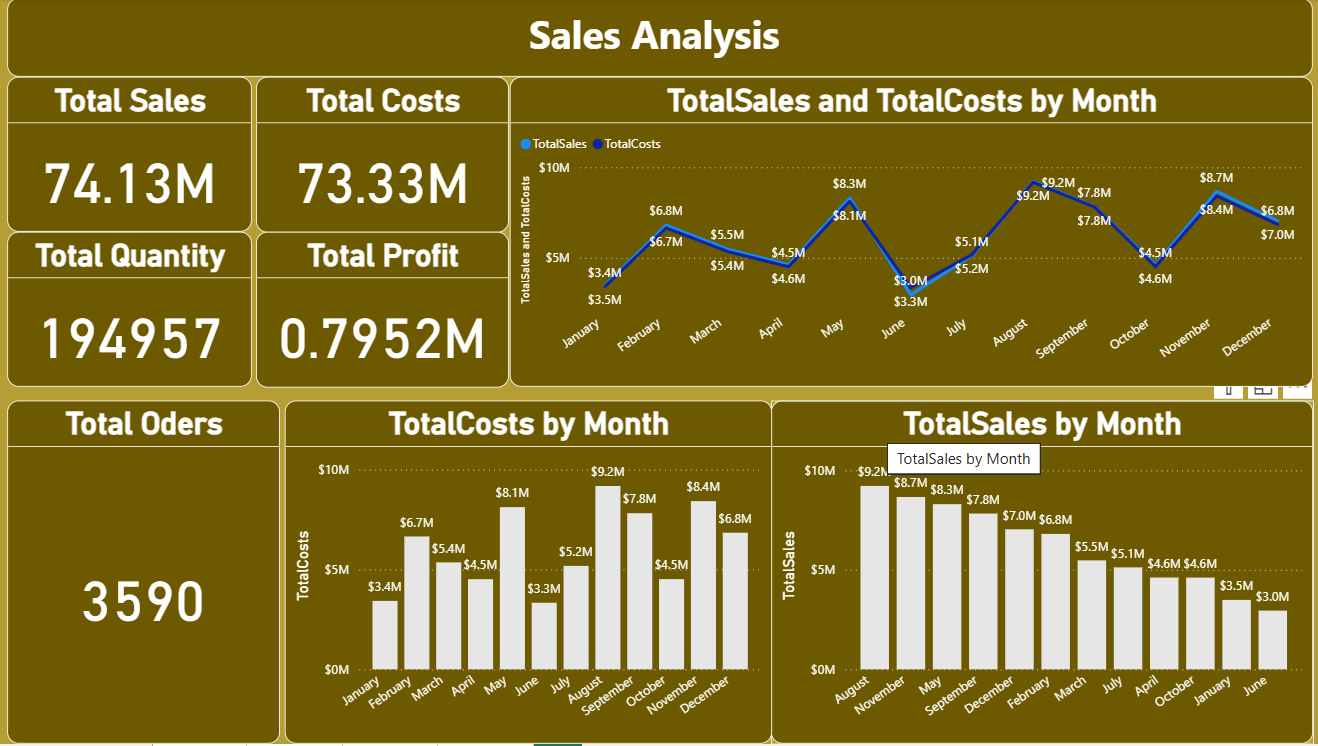

What the dashboard file says about the page in this screenshot:
{"tool":"powerbi","page":{"name":"Page 1","canvas":[1280,720],"ordinal":0},"visuals":[{"type":"card","title":"Total Sales","fields":{"Values":["Sum(Sales.Sale)"]},"box":[11,75.5,236,149.6],"z":0},{"type":"card","title":"Total Costs","fields":{"Values":["Sum(Sales.Cost)"]},"box":[251.4,75.7,244.3,150],"z":1000},{"type":"card","title":"Total Quantity","fields":{"Values":["Sum(Sales.Quantity)"]},"box":[11,225,236,149.6],"z":2000},{"type":"card","title":"Total Oders","fields":{"Values":["Count(Sales.OrderNumber)"]},"box":[11.4,388.6,262.9,331.4],"z":3000},{"type":"lineClusteredColumnComboChart","fields":{"Category":["Sales.Order Date.Variation.Date Hierarchy.Month"],"Y":["Sales.TotalSales"]},"box":[748.6,388.6,522.9,331.4],"z":4000},{"type":"lineClusteredColumnComboChart","fields":{"Category":["Sales.Order Date.Variation.Date Hierarchy.Month"],"Y":["Sales.TotalCosts"]},"box":[278.6,388.6,470,331.4],"z":5000},{"type":"lineChart","fields":{"Y":["Sales.TotalSales","Sales.TotalCosts"],"Category":["Sales.Order Date.Variation.Date Hierarchy.Month"]},"box":[495.4,75.5,775.3,299.1],"z":6000},{"type":"textbox","box":[11,0,1259.7,75.6],"z":7000},{"type":"card","title":"Total Profit","fields":{"Values":["Sales.profit"]},"box":[251.4,225.7,244.3,150],"z":8000}]}

Visuals, with their boxes in screenshot pixels (x1, y1, x2, y2), scaled from the page's 1280x720 canvas onto the 1318x746 screenshot:
"Total Sales" card: region(11, 78, 254, 233)
"Total Costs" card: region(259, 78, 510, 234)
"Total Quantity" card: region(11, 233, 254, 388)
"Total Oders" card: region(12, 403, 282, 745)
lineClusteredColumnComboChart - Sales.Order Date.Variation.Date Hierarchy.Month x Sales.TotalSales: region(771, 403, 1309, 745)
lineClusteredColumnComboChart - Sales.Order Date.Variation.Date Hierarchy.Month x Sales.TotalCosts: region(287, 403, 771, 745)
lineChart - Sales.TotalSales x Sales.TotalCosts: region(510, 78, 1308, 388)
textbox: region(11, 0, 1308, 78)
"Total Profit" card: region(259, 234, 510, 389)
